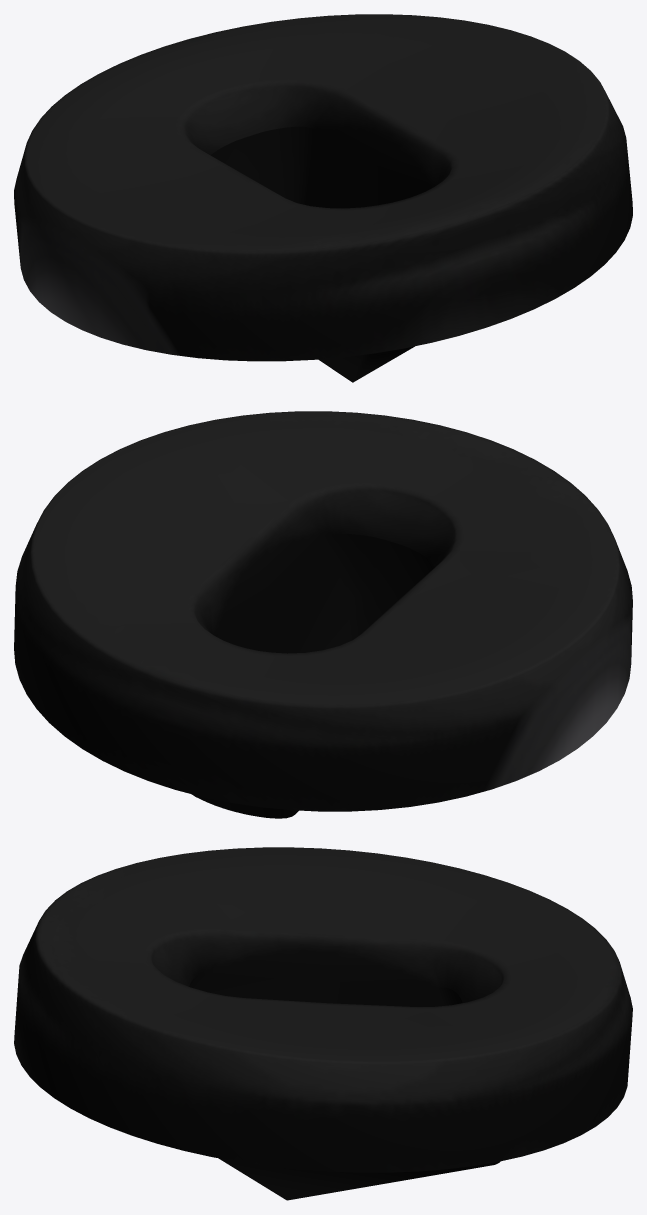
Rendered from trackpad_scroll_cut_left.obj.
The picture shows the model from 3 angles, top to bottom: view 1: azimuth 30°, elevation 25°; view 2: azimuth 150°, elevation 25°; view 3: azimuth 270°, elevation 25°; orthographic projection.
Parts seen in each view (by area): view 1: touchpad_scroll_cut; view 2: touchpad_scroll_cut; view 3: touchpad_scroll_cut.
Part boxes in pixels (<box>): touchpad_scroll_cut: <box>14,14,632,382</box>; touchpad_scroll_cut: <box>14,411,632,818</box>; touchpad_scroll_cut: <box>14,847,632,1200</box>.
Bounding box in the file's own units: 0.038 × 0.0178 × 0.038.
Materials: 1 (1 with a texture image).
